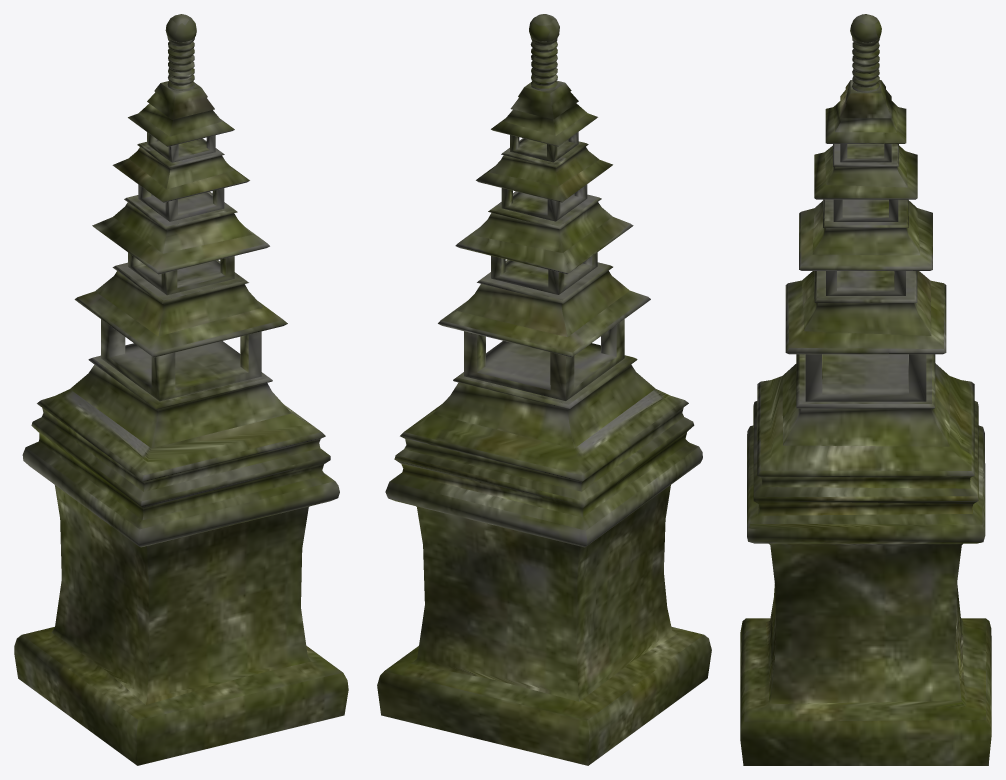
Rendered from jp_stupa_1.glb.
3 views of the same model, side by side, from view 1: azimuth 30°, elevation 25°; view 2: azimuth 150°, elevation 25°; view 3: azimuth 270°, elevation 25° (orthographic). The views are drawn at different scales.
Visible parts, largest first — view 1: Stone_Lantern_2; view 2: Stone_Lantern_2; view 3: Stone_Lantern_2.
Part boxes in pixels (bbox=[...]): Stone_Lantern_2: bbox=[14, 14, 348, 765]; Stone_Lantern_2: bbox=[377, 14, 711, 765]; Stone_Lantern_2: bbox=[740, 14, 991, 765].
Bounding box in the file's own units: 0.9784 × 3 × 0.9777.
Materials: 1 (1 with a texture image).
